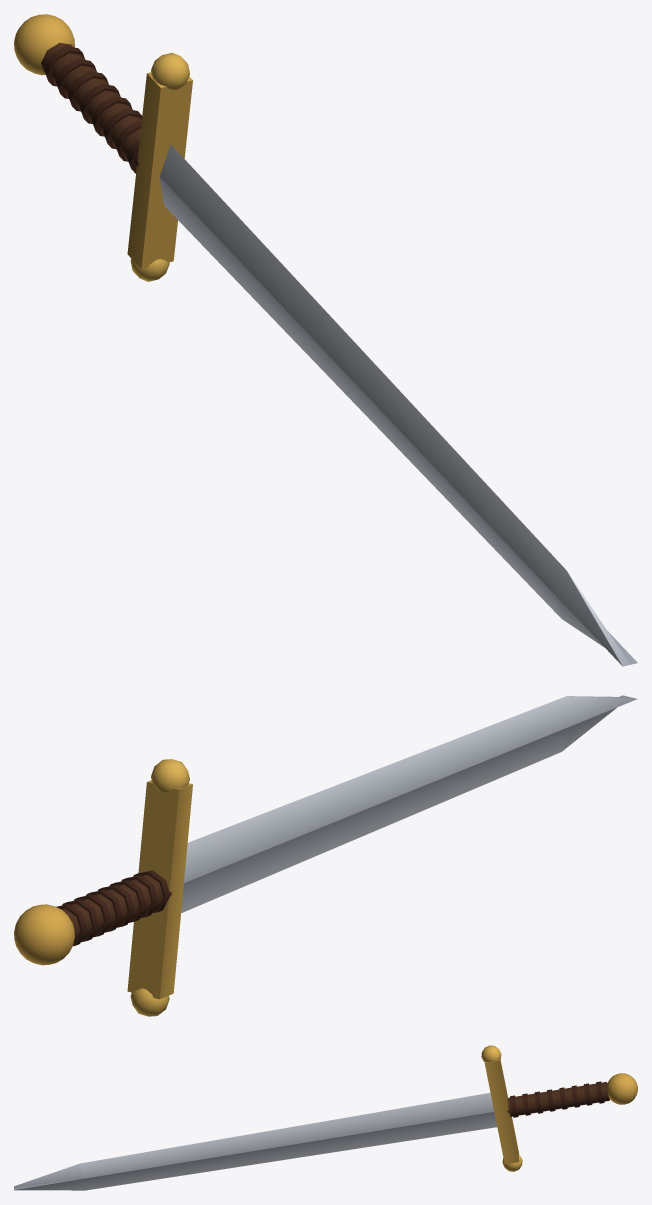
The model's file is sword.glb.
3 renders of one model, top to bottom at view 1: azimuth 30°, elevation 25°; view 2: azimuth 150°, elevation 25°; view 3: azimuth 270°, elevation 25°, orthographic. The views are drawn at different scales.
Visible parts, largest first — view 1: sword; view 2: sword; view 3: sword.
Boxes of the visible parts, x1,y1,x2,y2 form: sword: (14, 14, 637, 666); sword: (14, 695, 637, 1016); sword: (14, 1045, 637, 1190).
Size of the model in its own units: 0.056 by 0.2802 by 1.1.
